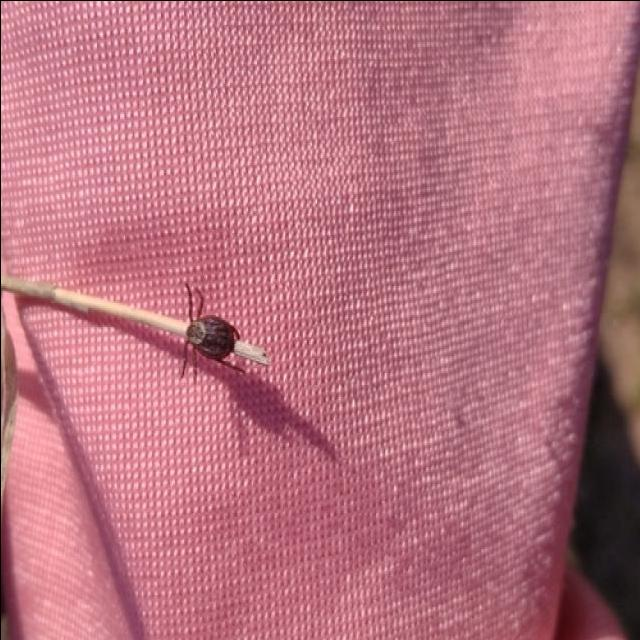Dermacentor Reticulatus-F: (178, 283, 244, 377)
